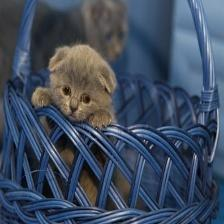kedo: (32, 45, 116, 127)
